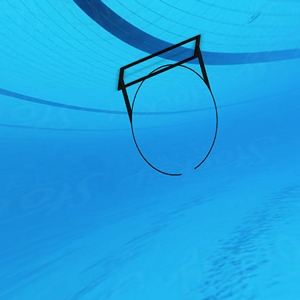circle: (116, 32, 220, 177)
